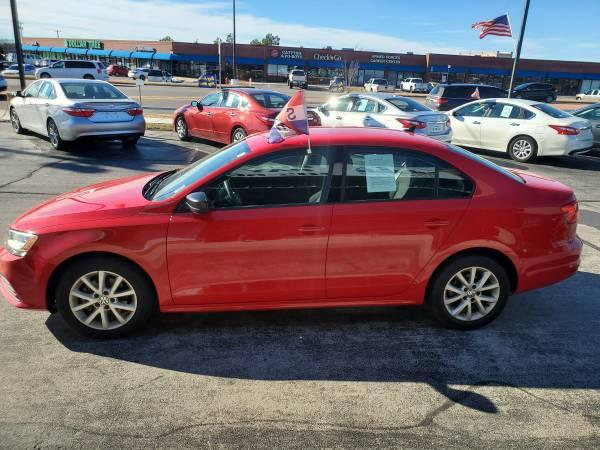Front_Bumper: (0, 249, 55, 312)
Front_Fender: (35, 219, 176, 310)
Front_Left_Door: (168, 206, 337, 313)
Front_Left_Window: (170, 146, 342, 216)
Front_Windshield: (147, 136, 245, 201)
Hood: (10, 172, 170, 233)
Left_Headlight: (6, 228, 41, 261)
Left_Taillight: (560, 196, 578, 222)
Rear_Bumper: (506, 220, 583, 293)
Rear_Fender: (443, 189, 567, 254)
Rear_Left_Door: (326, 197, 474, 303)
Rear_Left_Window: (333, 145, 476, 203)
Roof: (166, 121, 525, 204)
Wheel: (57, 259, 150, 339), (431, 255, 516, 330)
